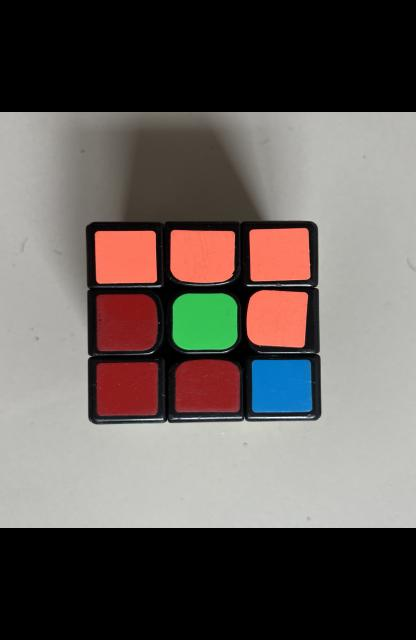Blue: (250, 359, 312, 412)
Green: (172, 293, 237, 350)
Orange: (245, 290, 307, 347), (169, 230, 234, 283), (94, 230, 157, 284), (248, 228, 309, 281)
Red: (96, 294, 157, 351), (174, 359, 239, 412), (96, 362, 157, 415)
